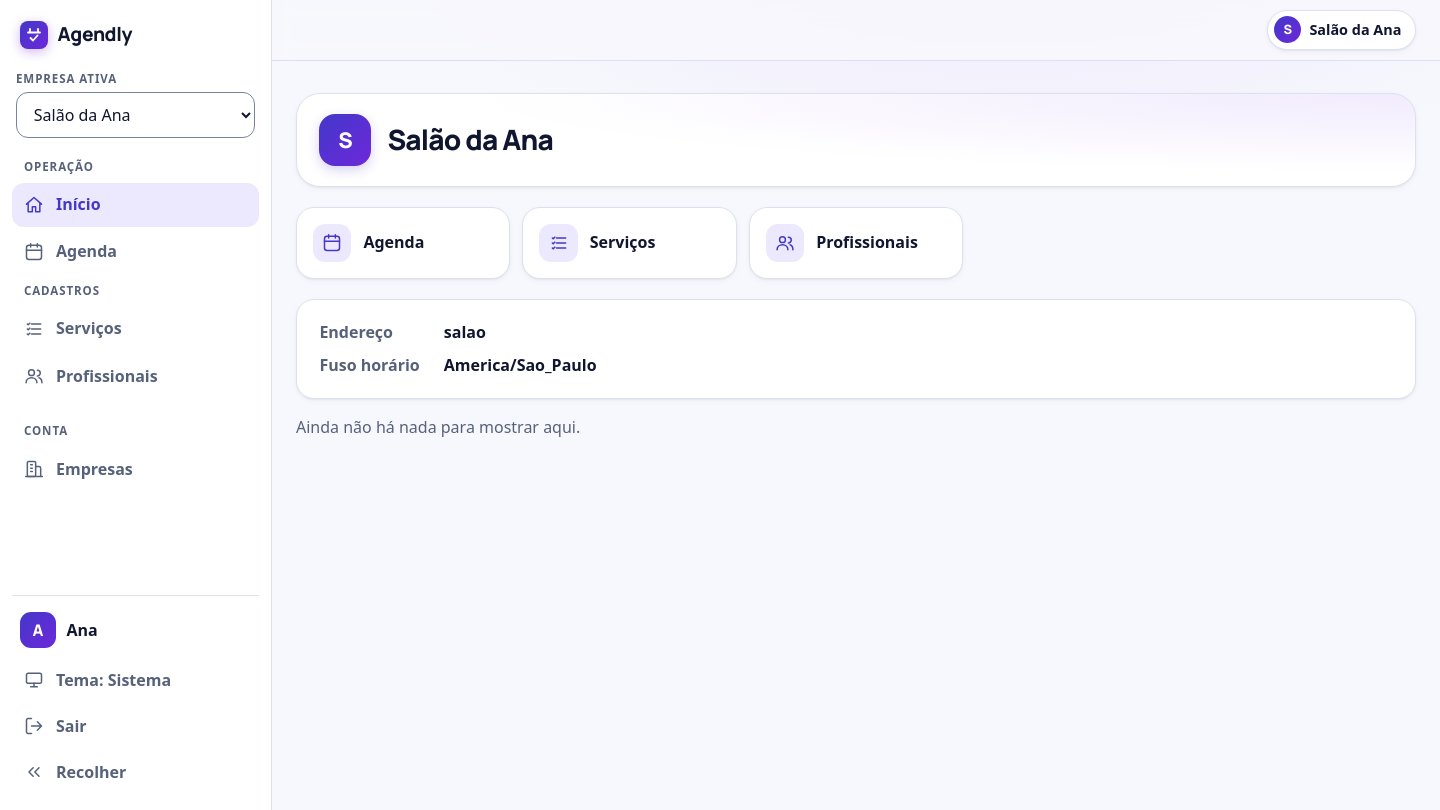
barra lateral › marca a rota ativa com aria-current e só o Início em '/'
Click the link "Agenda" below "Início" at (70, 251), box [24,240,117,262]
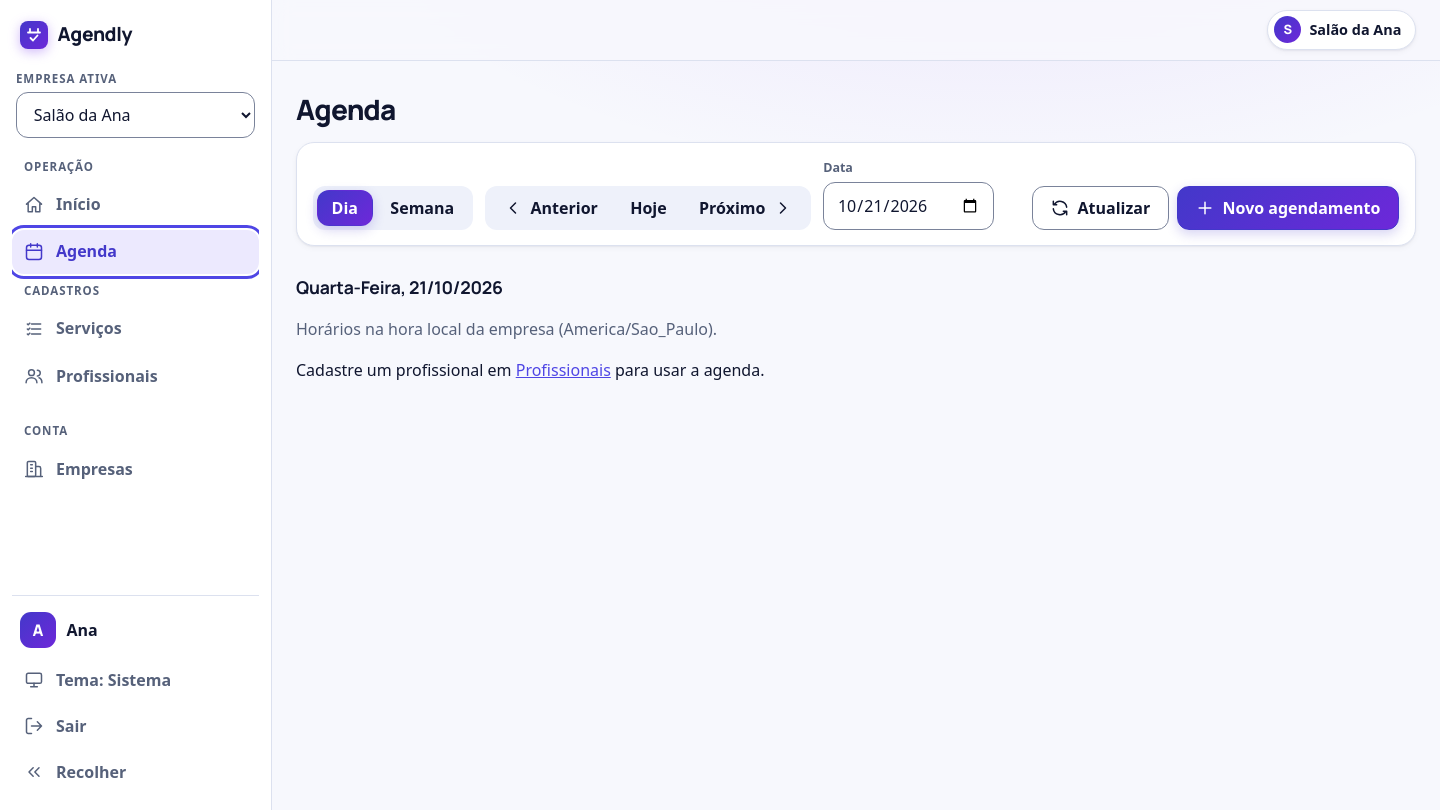
Now the heading "Agenda" is shown, box [296,90,396,128]
Click the link "Serviços" at (73, 328), box [24,317,122,339]
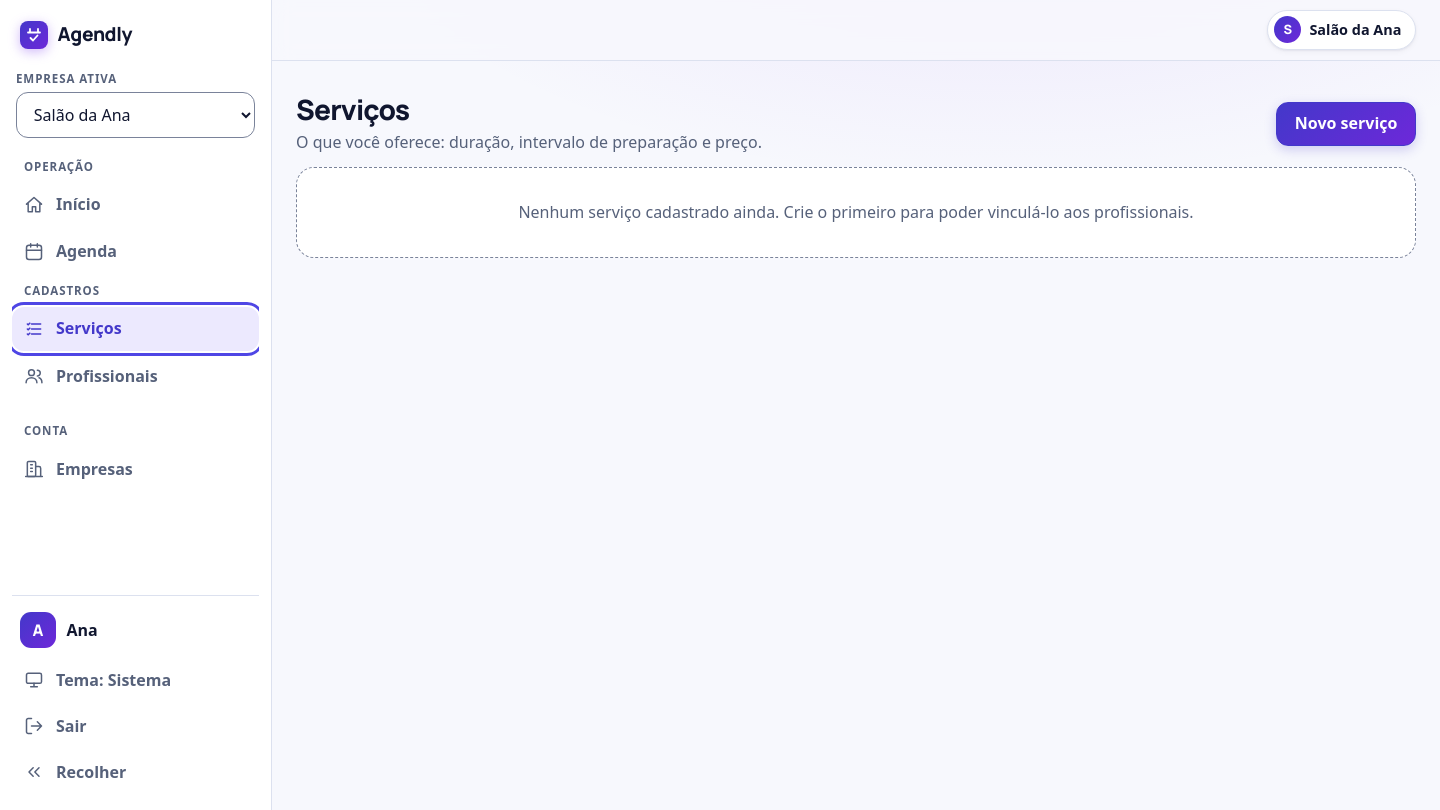
Now the heading "Serviços" is shown, box [296,90,409,128]
